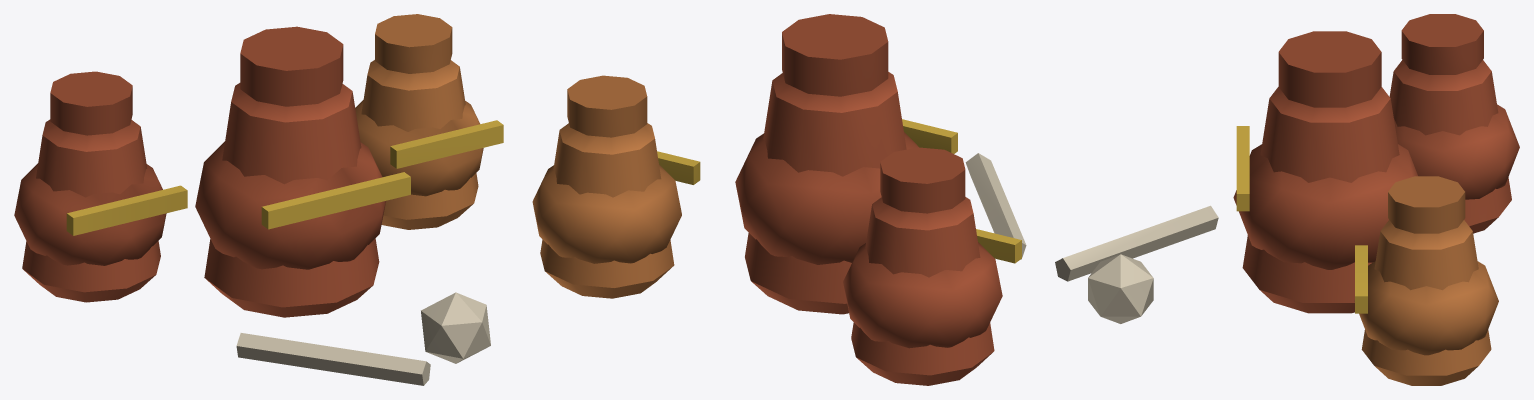
Rendered from cv_sand_deco_1.glb.
3 views of the same model, side by side, from view 1: azimuth 30°, elevation 25°; view 2: azimuth 150°, elevation 25°; view 3: azimuth 270°, elevation 25° (orthographic). The views are drawn at different scales.
Parts seen in each view (by area): view 1: body; view 2: body; view 3: body.
Boxes of the visible parts, x1,y1,x2,y2 form: body: (14, 14, 503, 385); body: (532, 14, 1026, 385); body: (1055, 14, 1519, 385).
Bounding box in the file's own units: 1.54 × 0.84 × 1.44.
